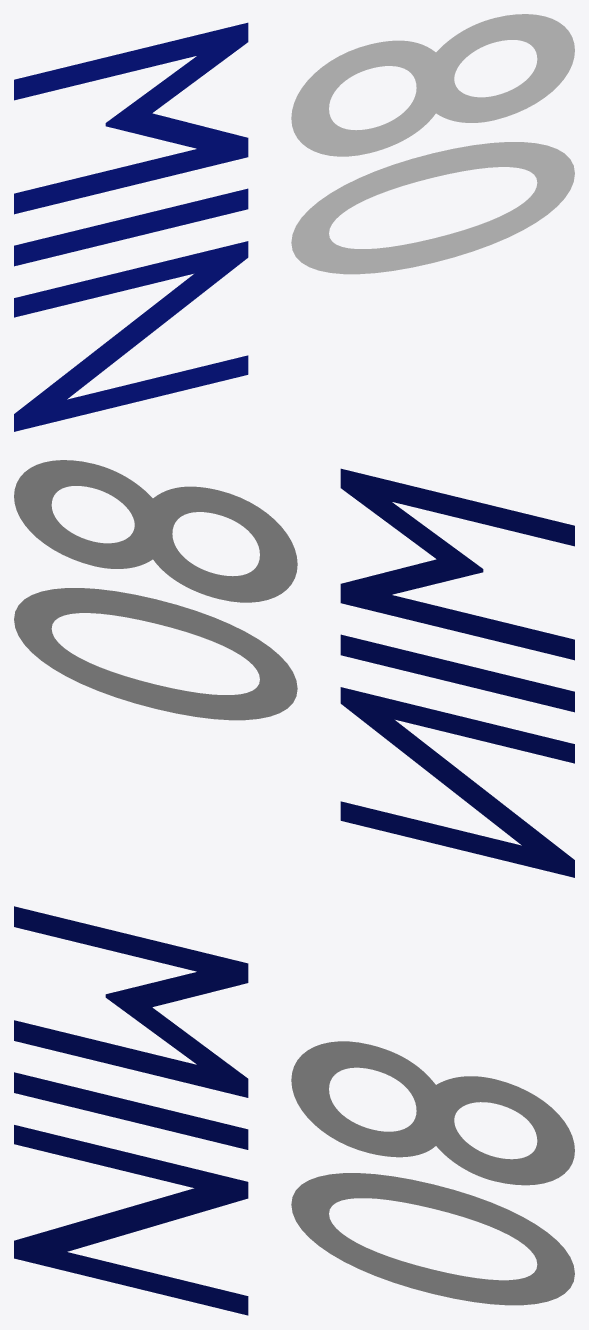
File: 地面标识-限速下限80.gltf
The picture shows the model from 3 angles, top to bottom: view 1: azimuth 30°, elevation 25°; view 2: azimuth 150°, elevation 25°; view 3: azimuth 330°, elevation 25°; orthographic projection.
Visible parts, largest first — view 1: 文本.002, 文本; view 2: 文本.002, 文本; view 3: 文本.002, 文本.
Part boxes in pixels (left/top/right/bottom): 文本.002: left=14, top=22, right=248, bottom=431; 文本: left=291, top=14, right=574, bottom=274; 文本.002: left=340, top=468, right=574, bottom=877; 文本: left=14, top=460, right=297, bottom=720; 文本.002: left=14, top=906, right=248, bottom=1315; 文本: left=291, top=1041, right=574, bottom=1305.
Size of the model in its own units: 3.4 by 2.04 by 8.08e-07.
